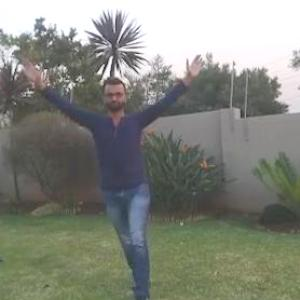takeoff: (21, 58, 200, 299)
